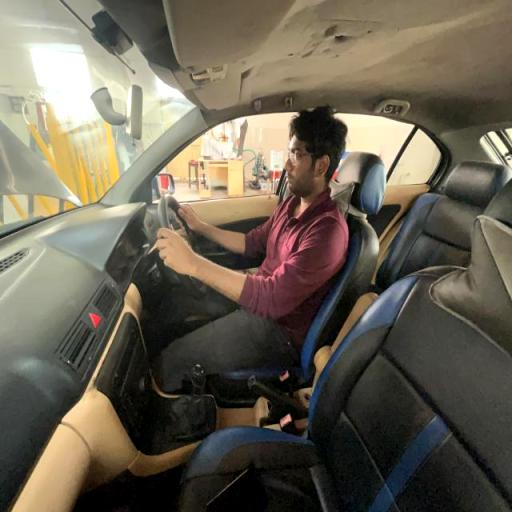Normal: (122, 83, 365, 394)
